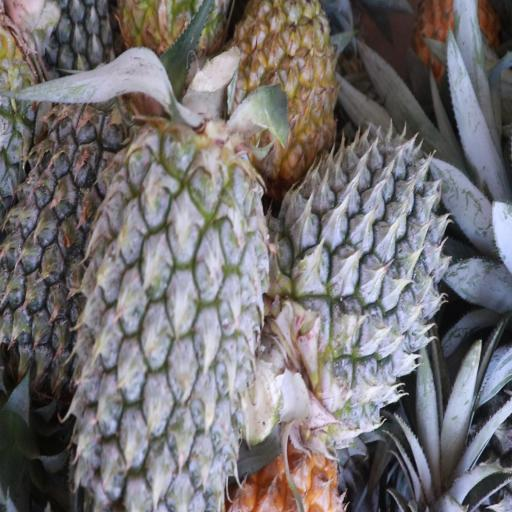Pineapple - v8 v1: (234, 4, 332, 169)
